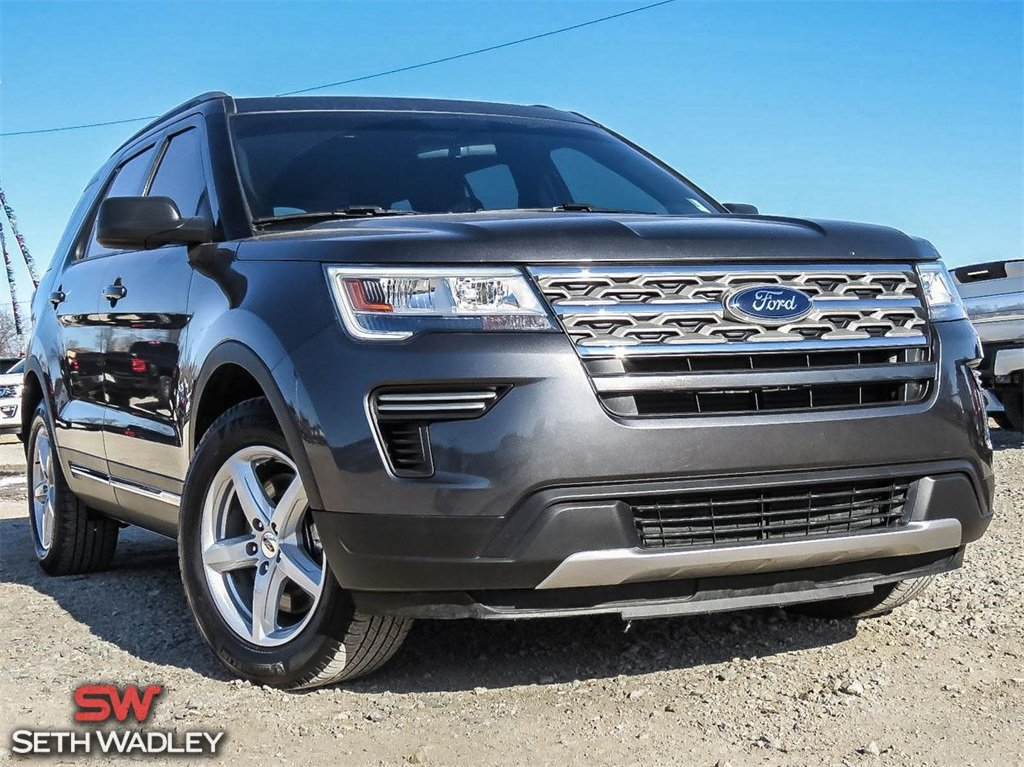Ford Explorer: (17, 81, 1003, 697)
